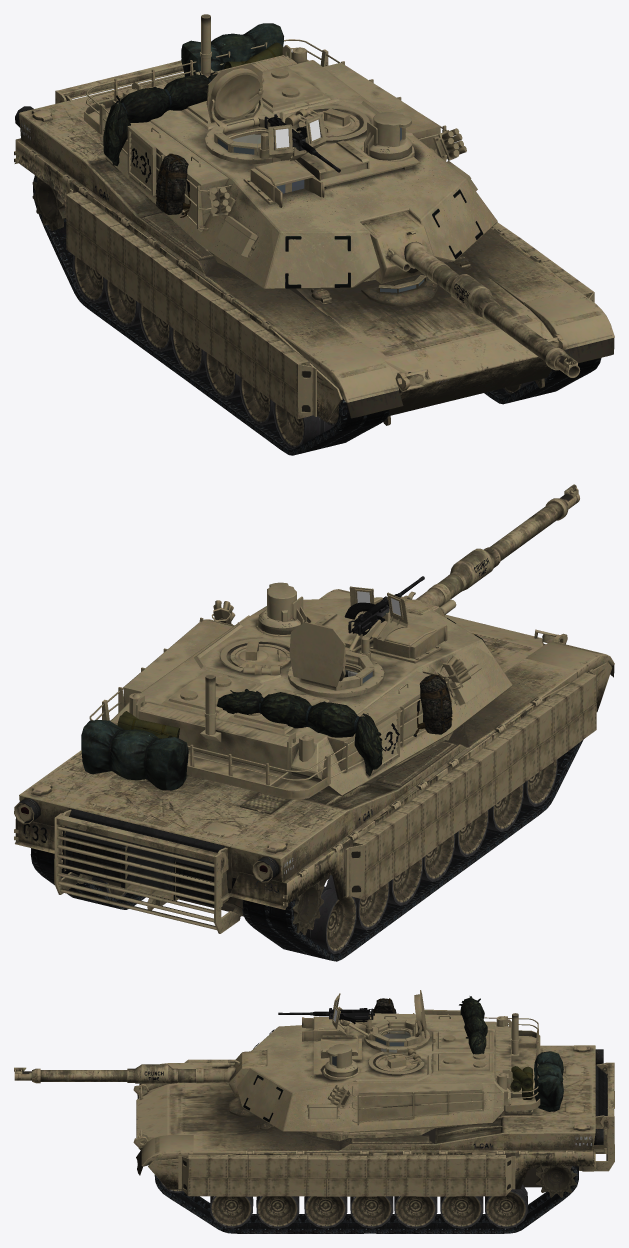
The model's file is m1a1_abrams_tank.glb.
3 views of the same model, one above another, from view 1: azimuth 30°, elevation 25°; view 2: azimuth 150°, elevation 25°; view 3: azimuth 270°, elevation 25° (orthographic). The views are drawn at different scales.
Parts seen in each view (by area): view 1: Object_14, Object_7, Object_8, Object_6, Object_11, Object_9, Object_10, Object_15, Object_5; view 2: Object_14, Object_7, Object_8, Object_6, Object_9, Object_11, Object_5, Object_15, Object_10; view 3: Object_14, Object_8, Object_7, Object_11, Object_6, Object_9, Object_5, Object_15, Object_10.
Part boxes in pixels (x1,y1,x2,y2): Object_14: [84, 14, 497, 289]; Object_7: [14, 72, 614, 425]; Object_8: [32, 60, 594, 448]; Object_6: [103, 23, 292, 217]; Object_11: [33, 175, 601, 455]; Object_9: [33, 70, 522, 397]; Object_10: [21, 123, 542, 383]; Object_15: [217, 161, 477, 257]; Object_5: [264, 114, 340, 172]; Object_14: [89, 582, 512, 799]; Object_7: [14, 589, 614, 916]; Object_8: [54, 484, 596, 954]; Object_6: [81, 674, 452, 790]; Object_9: [57, 826, 451, 954]; Object_11: [30, 739, 583, 961]; Object_5: [344, 576, 424, 635]; Object_15: [235, 615, 489, 705]; Object_10: [23, 558, 489, 892]; Object_14: [237, 990, 540, 1132]; Object_8: [14, 1050, 614, 1228]; Object_7: [133, 1045, 607, 1189]; Object_11: [154, 1166, 578, 1233]; Object_6: [373, 996, 563, 1111]; Object_9: [296, 1154, 607, 1228]; Object_5: [278, 1008, 374, 1024]; Object_15: [306, 1104, 339, 1118]; Object_10: [144, 1029, 591, 1148].
Size of the model in its own units: 3.95 by 3.38 by 10.13.
Materials: 12 (11 with a texture image).
